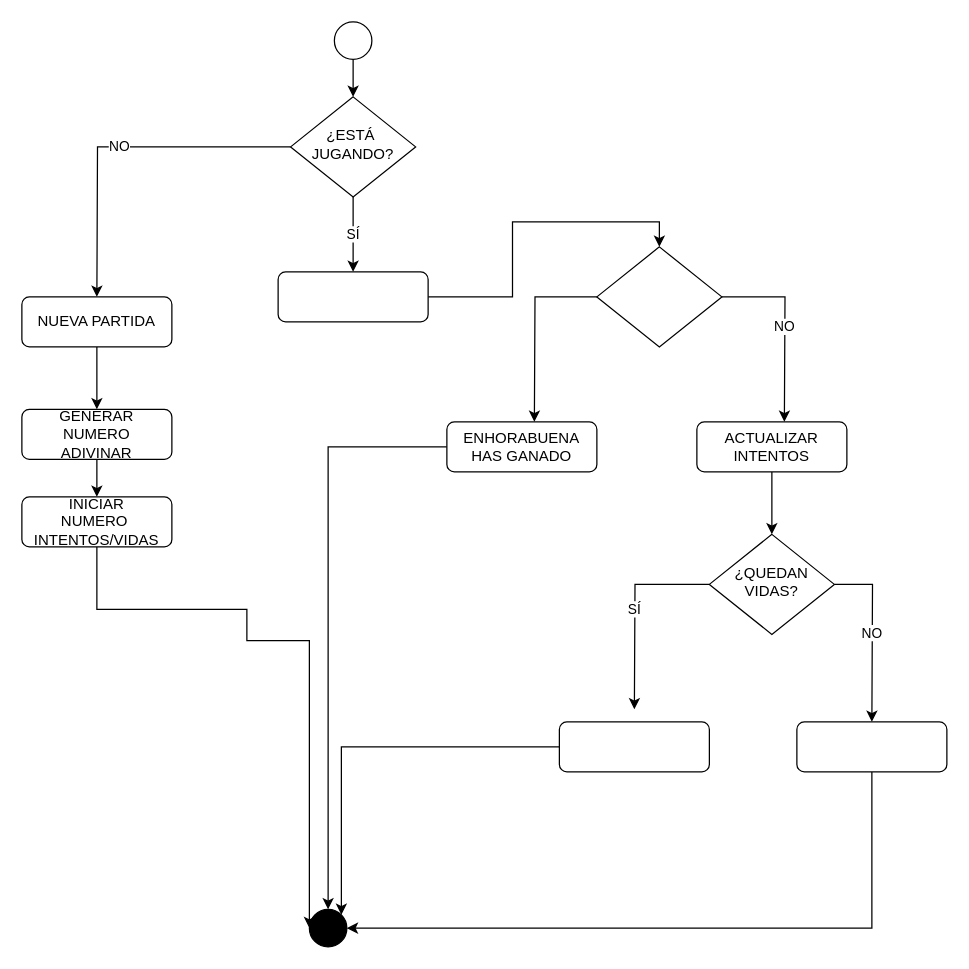
Some shapes in this 969 by 969 pixel diagram are drawn without their labels. Each missing label, with the box of its shape:
ESTÁ JUGANDO: (277, 271, 428, 322)
LE DAMOS UNA PISTA: (558, 721, 709, 772)
LE INFORMAMOS GAME OVER Y RESULTADO: (796, 721, 947, 772)
¿ACIERTA?: (596, 246, 722, 347)
